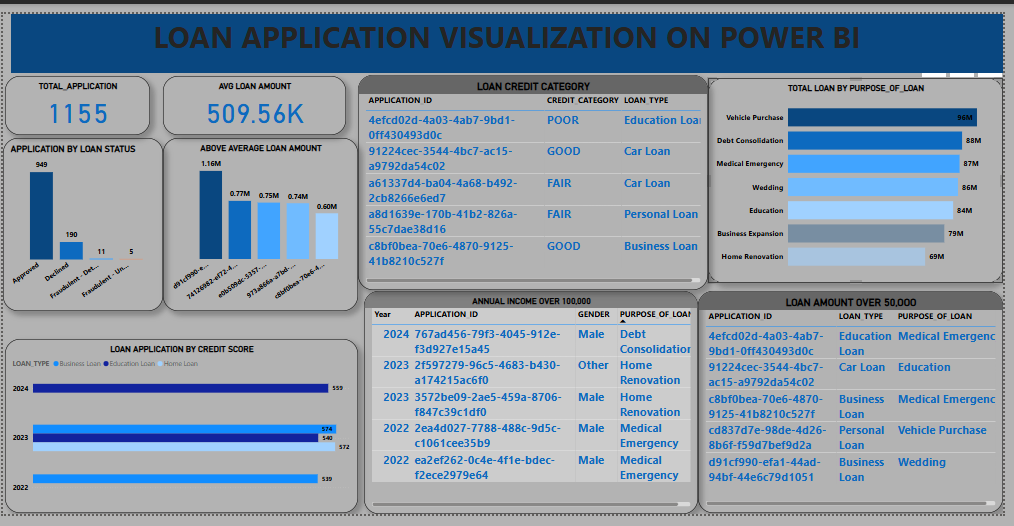

What the dashboard file says about the page in this screenshot:
{"tool":"powerbi","page":{"name":"Page 1","canvas":[2000,1000],"ordinal":0},"visuals":[{"type":"card","title":"TOTAL_APPLICATION","fields":{"Values":["Sum(1A.TOTAL_APPLICATIONS)"]},"box":[4,124,290,118],"z":0},{"type":"card","title":"AVG LOAN AMOUNT","fields":{"Values":["Sum(2B.AVG_LOAN_AMOUNT)"]},"box":[320,124,366,118],"z":1000},{"type":"clusteredBarChart","title":" TOTAL LOAN BY PURPOSE_OF_LOAN","fields":{"Category":["3C.PURPOSE_OF_LOAN"],"Y":["Sum(3C.TOTAL_LOAN)"]},"box":[1410,128,590,410],"z":2000},{"type":"tableEx","title":"ANNUAL INCOME OVER 100,000","fields":{"Values":["4D.APPLICATION_DATE.Variation.Date Hierarchy.Year","4D.APPLICATION_ID","4D.GENDER","4D.PURPOSE_OF_LOAN"]},"box":[722,554,668,446],"z":3000},{"type":"clusteredColumnChart","title":"ABOVE AVERAGE LOAN AMOUNT","fields":{"Category":["7E.APPLICATION_ID"],"Y":["Sum(7E.AVG(LOAN_AMOUNT_REQUESTED))"]},"box":[320,248,390,346],"z":4000},{"type":"clusteredBarChart","title":"LOAN APPLICATION BY CREDIT SCORE","fields":{"Category":["9E.APPLICATION_DATE.Variation.Date Hierarchy.Year","9E.APPLICATION_DATE.Variation.Date Hierarchy.Quarter","9E.APPLICATION_DATE.Variation.Date Hierarchy.Month","9E.APPLICATION_DATE.Variation.Date Hierarchy.Day"],"Y":["Sum(9E.CREDIT_SCORE)"],"Series":["9E.LOAN_TYPE"]},"box":[4,650,706,348],"z":5000},{"type":"clusteredColumnChart","title":"APPLICATION BY LOAN STATUS","fields":{"Y":["Sum(9999999.APPLICATION_COUNT)"],"Category":["9999999.LOAN_STATUS"]},"box":[0,248,320,346],"z":6000},{"type":"textbox","box":[16,0,1984,118],"z":7000},{"type":"tableEx","title":"LOAN CREDIT CATEGORY","fields":{"Values":["101010.APPLICATION_ID","101010.CREDIT_CATEGORY","101010.LOAN_TYPE"]},"box":[710,122,700,430],"z":8000},{"type":"tableEx","title":"LOAN AMOUNT OVER 50,OOO","fields":{"Values":["66.APPLICATION_ID","66.LOAN_TYPE","66.PURPOSE_OF_LOAN"]},"box":[1390,554,610,444],"z":9000}]}

Visuals, with their boxes in screenshot pixels (x1, y1, x2, y2):
"TOTAL_APPLICATION" card: crop(2, 73, 147, 132)
"AVG LOAN AMOUNT" card: crop(160, 73, 343, 132)
" TOTAL LOAN BY PURPOSE_OF_LOAN" clusteredBarChart: crop(705, 75, 1000, 280)
"ANNUAL INCOME OVER 100,000" tableEx: crop(361, 288, 695, 511)
"ABOVE AVERAGE LOAN AMOUNT" clusteredColumnChart: crop(160, 135, 355, 308)
"LOAN APPLICATION BY CREDIT SCORE" clusteredBarChart: crop(2, 336, 355, 510)
"APPLICATION BY LOAN STATUS" clusteredColumnChart: crop(0, 135, 160, 308)
textbox: crop(8, 11, 1000, 70)
"LOAN CREDIT CATEGORY" tableEx: crop(355, 72, 705, 287)
"LOAN AMOUNT OVER 50,OOO" tableEx: crop(695, 288, 1000, 510)
